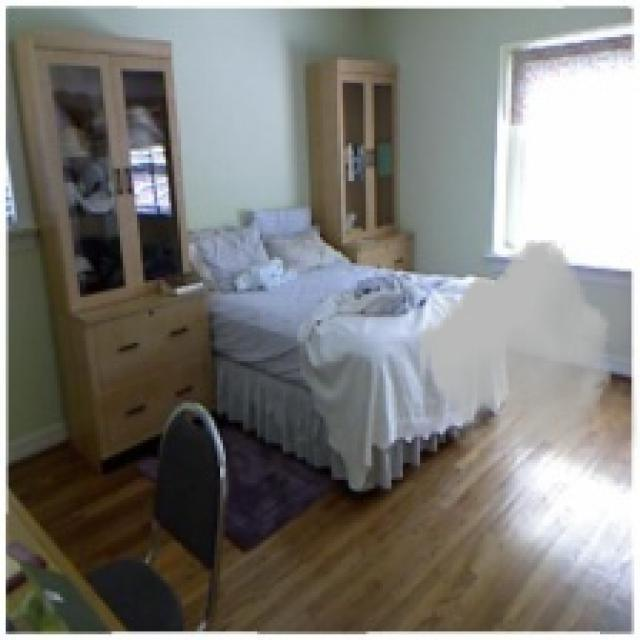Smoke: (414, 241, 637, 448)
